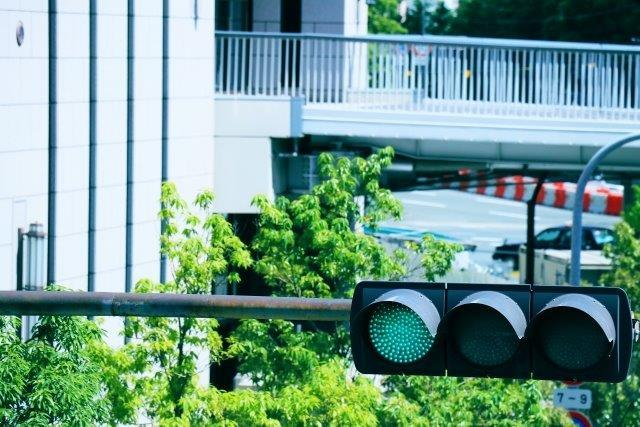cars: (354, 281, 629, 379)
